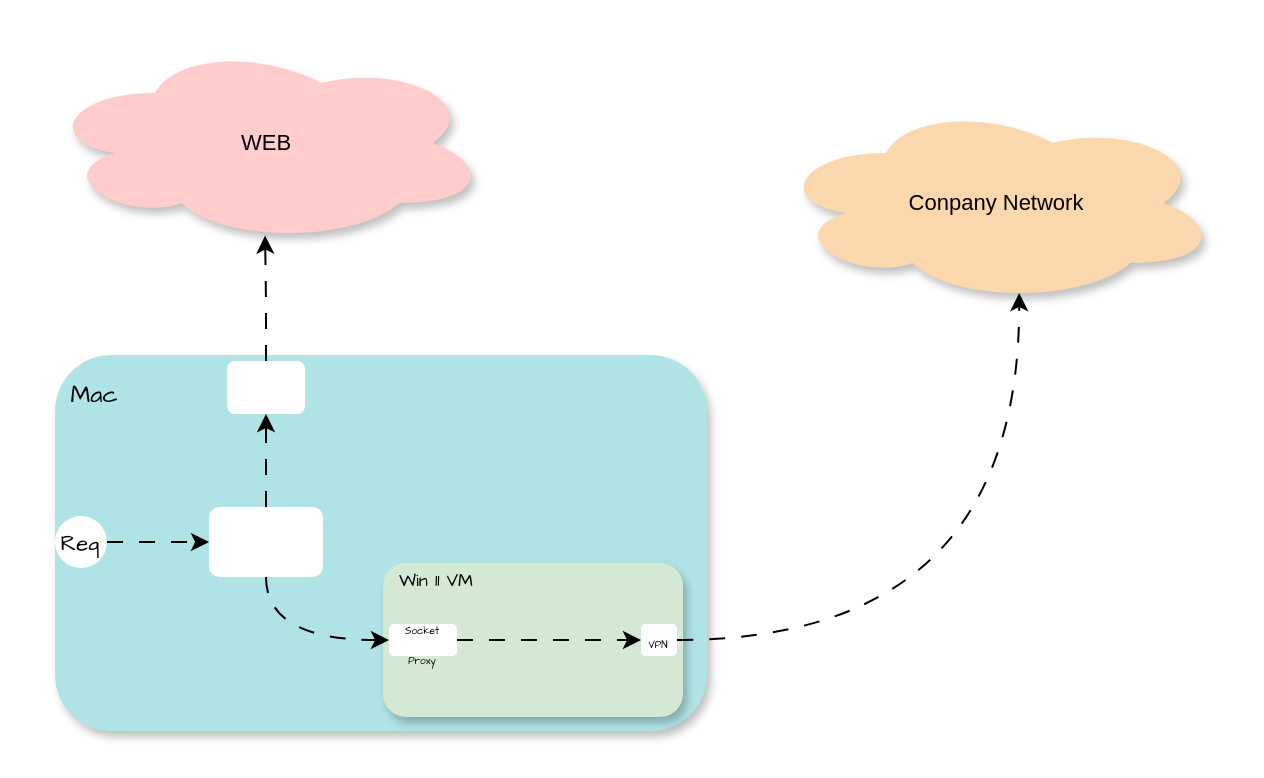
Some shapes in this 1264 by 778 pixel diagram are drawn without their labels. The centre of each missing label's shape, as x and y in pixels:
clash: the point at 265,386
Surge Ruls: the point at 265,541
